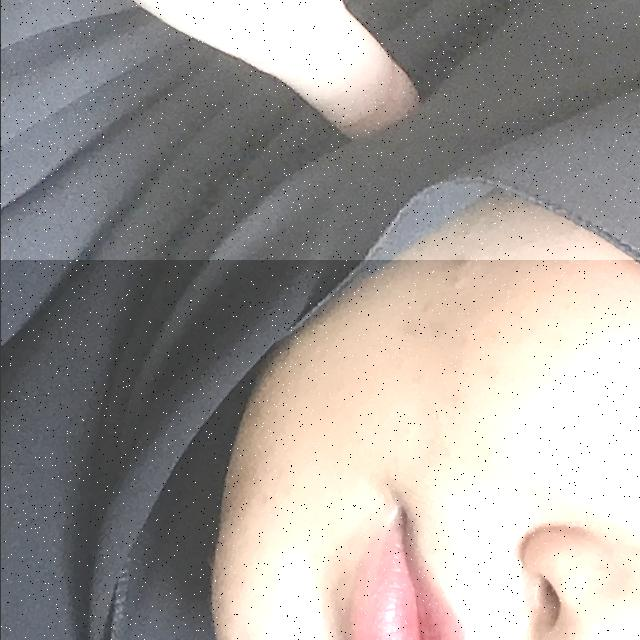mendengar: (0, 0, 640, 260)
